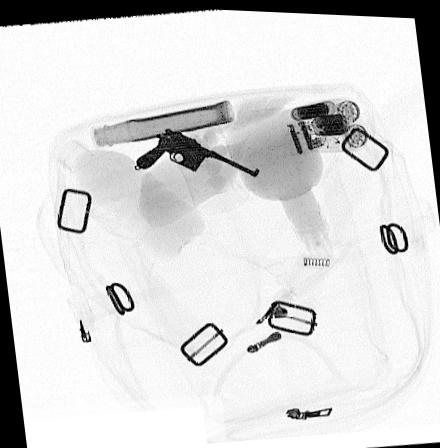Gun: (133, 125, 260, 176)
